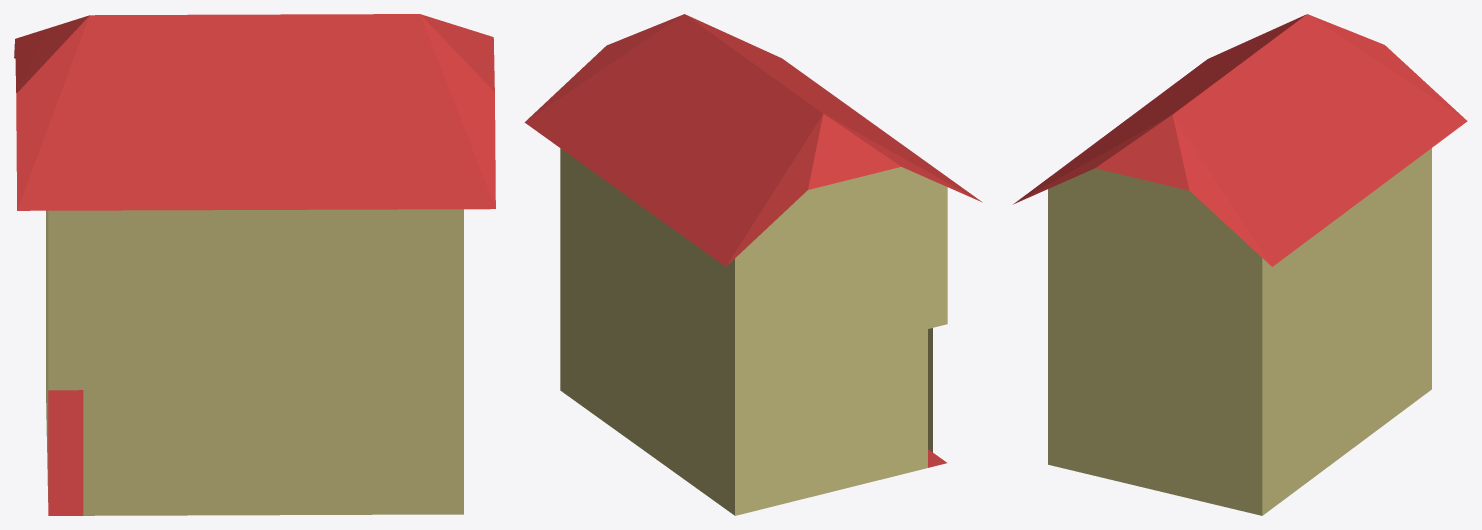
3 renders of one model, left to right at view 1: azimuth 30°, elevation 25°; view 2: azimuth 150°, elevation 25°; view 3: azimuth 270°, elevation 25°, orthographic. The views are drawn at different scales.
Parts seen in each view (by area): view 1: group_5, group_3, group_4, group_6; view 2: group_5, group_3, group_4; view 3: group_5, group_3, group_4.
Boxes of the visible parts, x1,y1,x2,y2 form: group_5: (46,209,463,515); group_3: (15,14,495,210); group_4: (14,27,494,210); group_6: (48,390,279,515); group_5: (560,148,947,515); group_3: (525,14,981,266); group_4: (525,32,981,201); group_5: (1048,148,1431,515); group_3: (1013,14,1467,266); group_4: (1018,32,1384,266).
Bounding box in the file's own units: 18.83 × 17.42 × 15.31.
